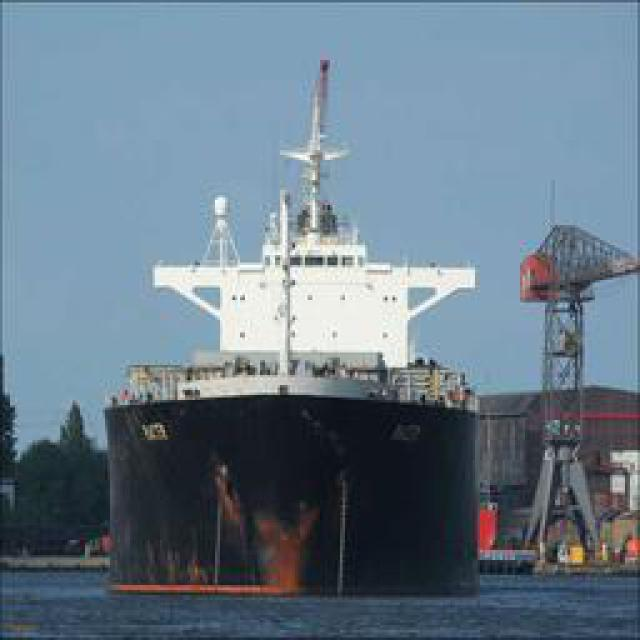Ship: (105, 138, 485, 603)
